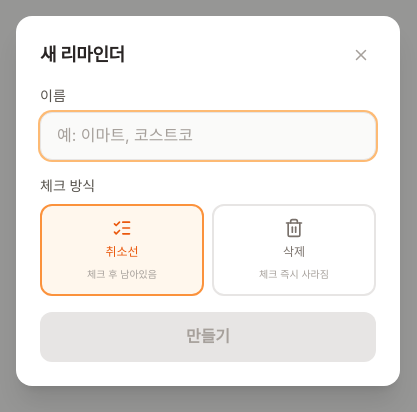
Test: CreateReminderListModal › 이름 입력 후 만들기 버튼이 활성화된다
The image size is (417, 412).
Type "코스트코" into the field with placeholder "예: 이마트, 코스트코" at (208, 136), box left=40, top=112, right=376, bottom=160
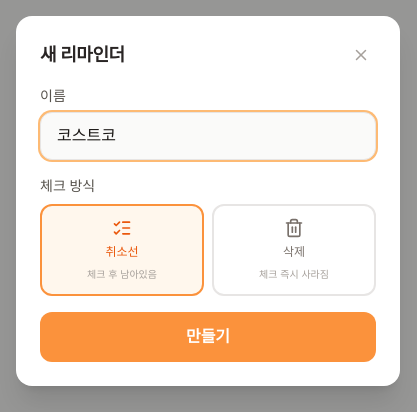
Check: the button "만들기" is enabled, box left=40, top=312, right=376, bottom=362
